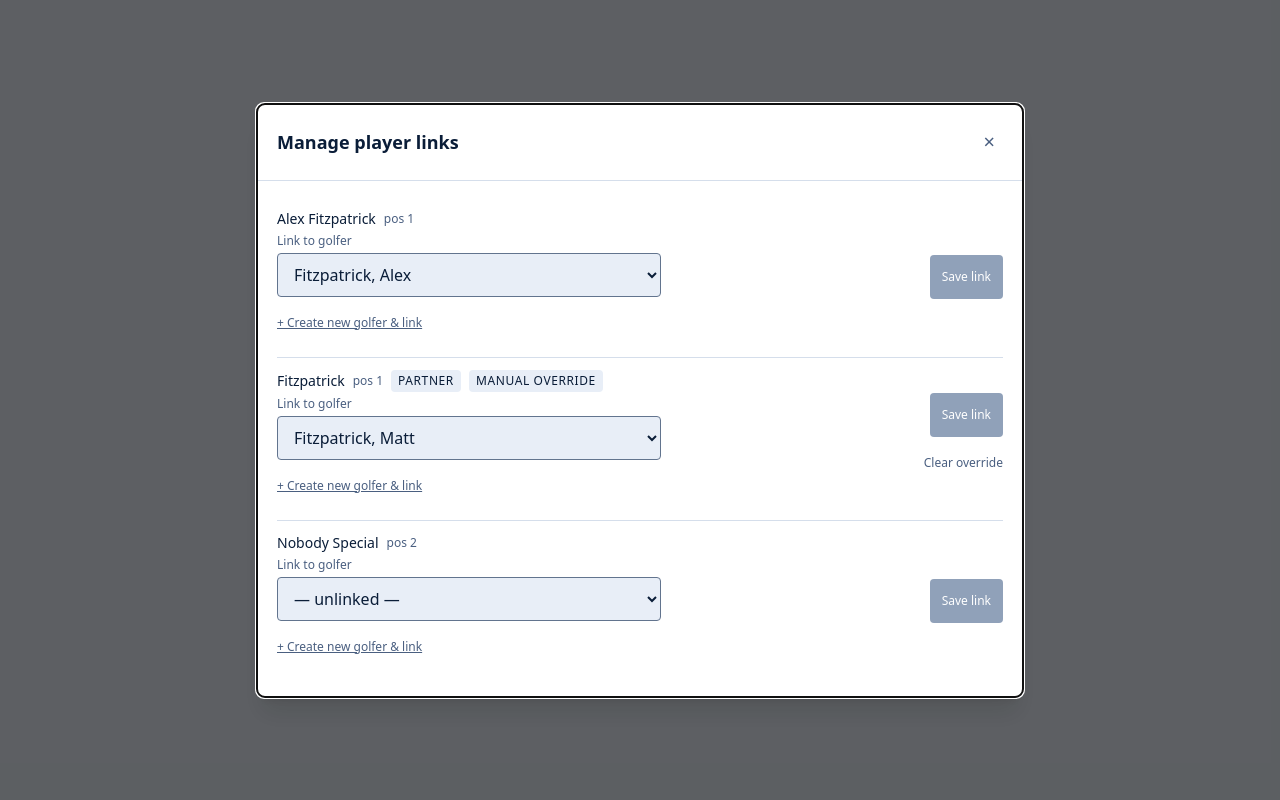
Test case: PlayerLinksPanel › opens the create-golfer form pre-filled with a partner row's lone surname
Step 1. Click the button "+ Create new golfer & link" below "partner" → (350, 486), box [277,464,422,508]
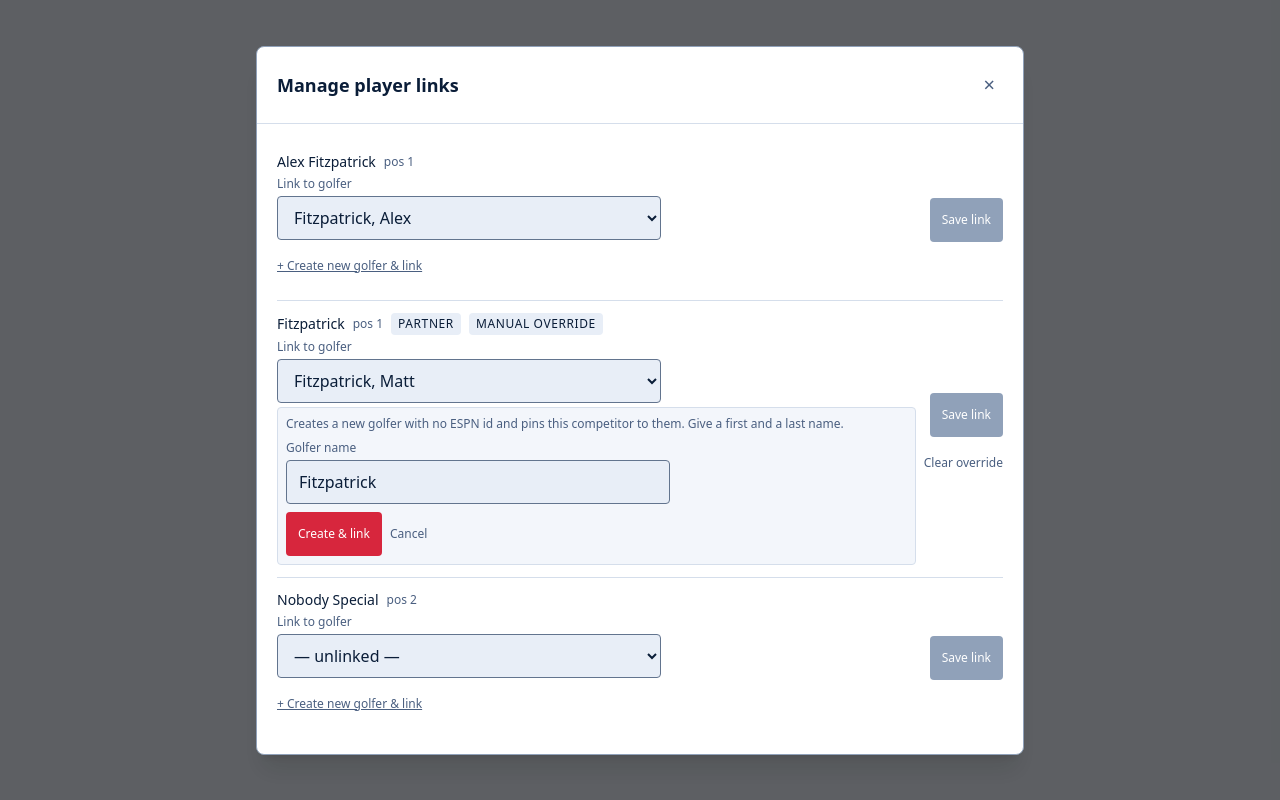
Check: the field labelled "Golfer name" holds "Fitzpatrick", box [286,460,670,504]
